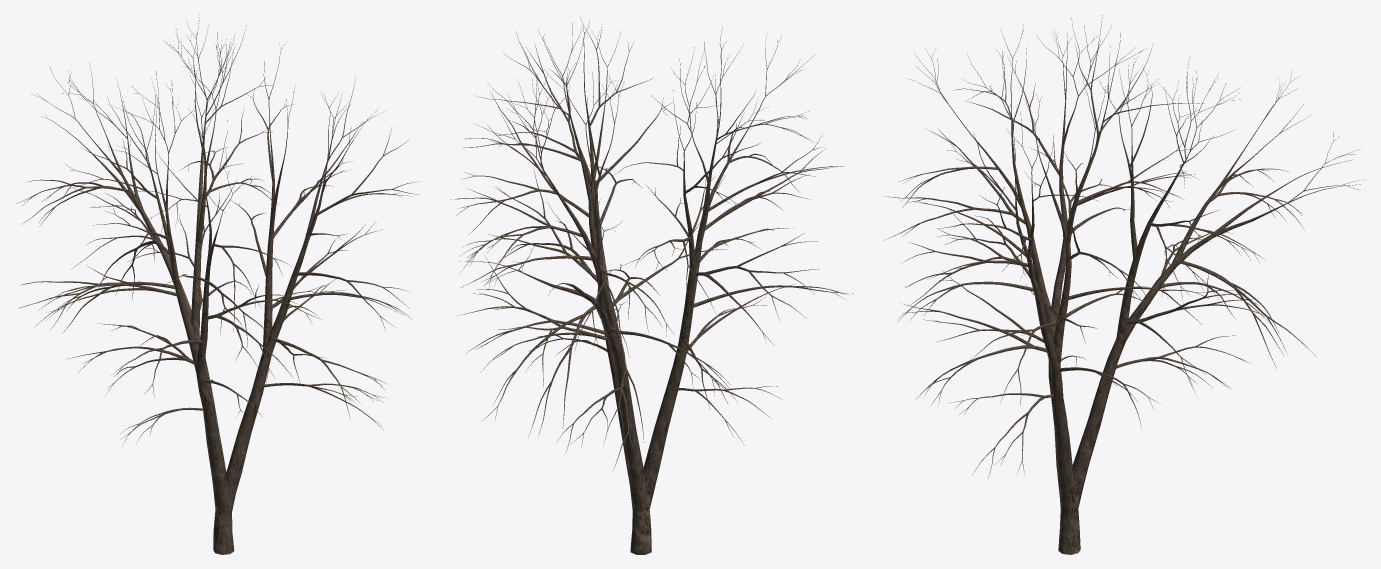
File: Arbol_1.obj
3 views of the same model, side by side, from view 1: azimuth 30°, elevation 25°; view 2: azimuth 150°, elevation 25°; view 3: azimuth 270°, elevation 25° (orthographic). The views are drawn at different scales.
Parts seen in each view (by area): view 1: tree.001; view 2: tree.001; view 3: tree.001.
Boxes of the visible parts, left/top/right/bottom form: tree.001: left=16, top=14, right=420, bottom=554; tree.001: left=450, top=17, right=853, bottom=554; tree.001: left=883, top=15, right=1365, bottom=554.
Size of the model in its own units: 7.14 by 10.06 by 8.66.
Materials: 1 (1 with a texture image).
